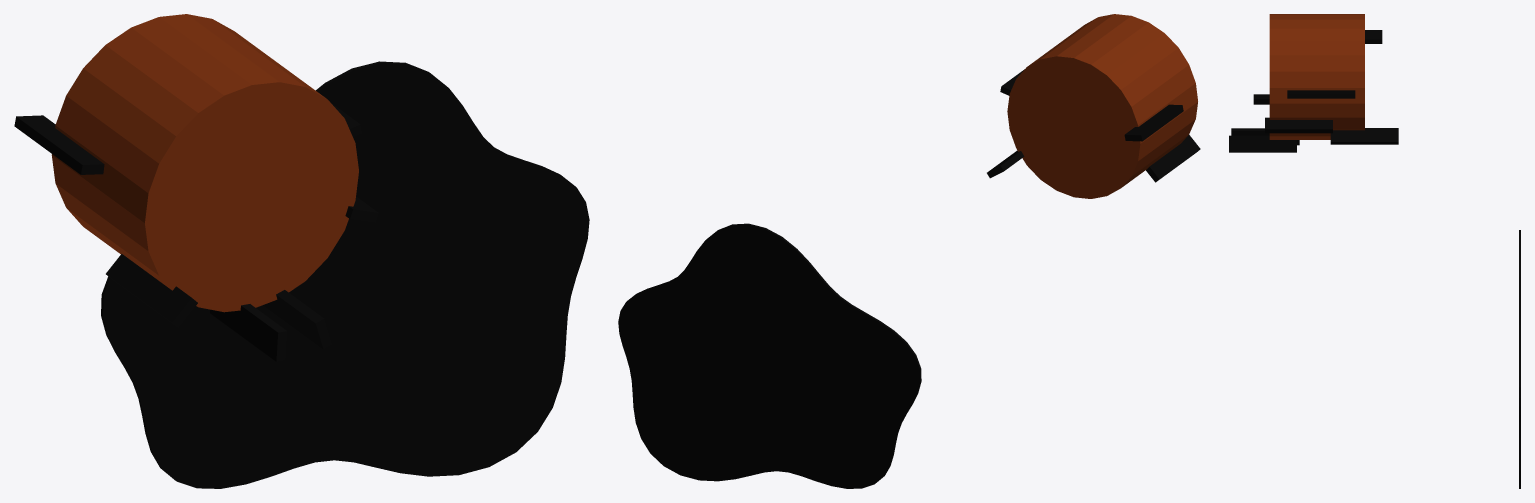
File: fault_cable_chafe.obj
3 views of the same model, side by side, from view 1: azimuth 30°, elevation 25°; view 2: azimuth 150°, elevation 25°; view 3: azimuth 270°, elevation 25° (orthographic). The views are drawn at different scales.
Visible parts, largest first — view 1: fault_cable_chafe; view 2: fault_cable_chafe; view 3: fault_cable_chafe.
Boxes of the visible parts, x1=… form: fault_cable_chafe: x1=14, y1=14, x2=589, y2=488; fault_cable_chafe: x1=618, y1=14, x2=1200, y2=488; fault_cable_chafe: x1=1229, y1=14, x2=1520, y2=488.
Bounding box in the file's own units: 0.6154 × 0.5629 × 0.4291.
